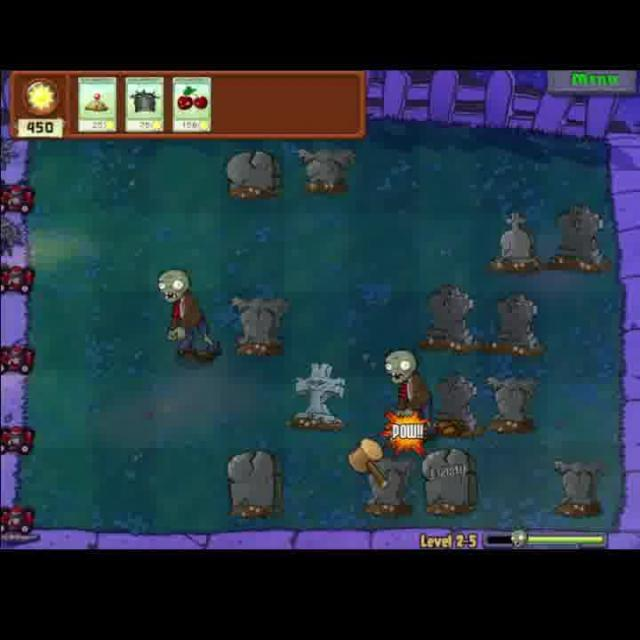zombies: (152, 266, 222, 366), (378, 342, 436, 438)
